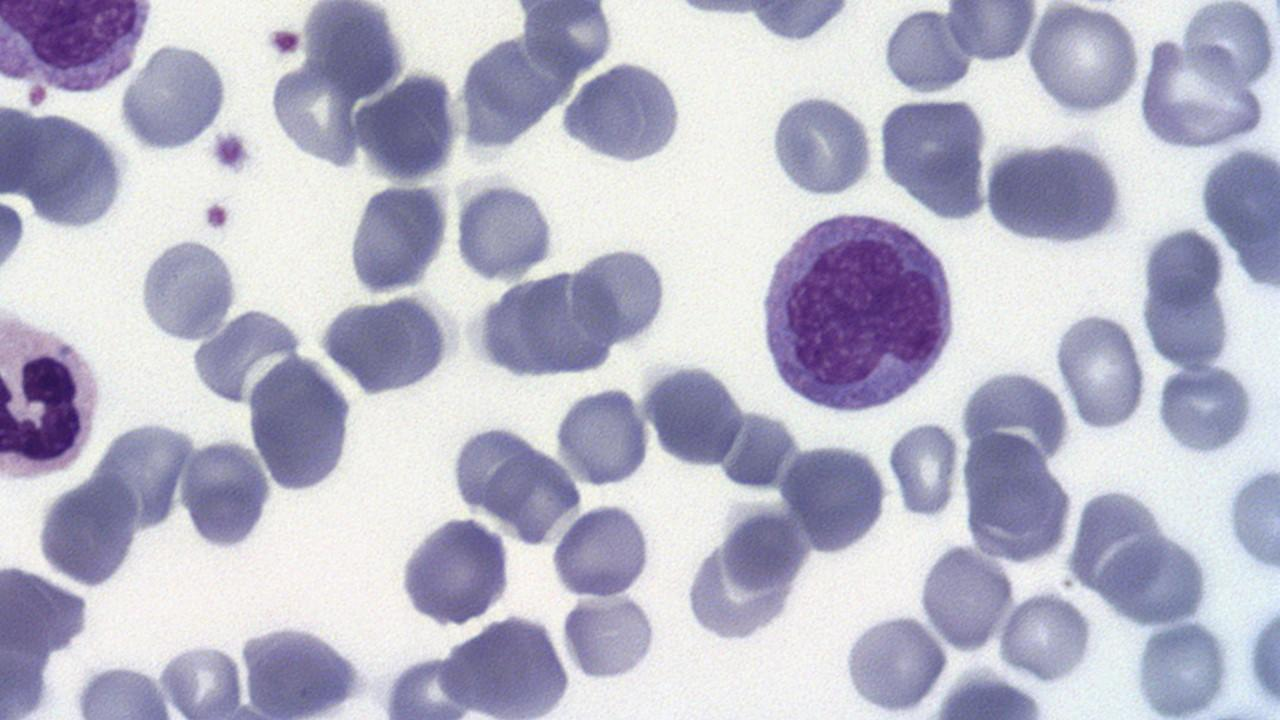Platelets: (1153, 362, 1261, 458), (0, 195, 27, 278), (207, 129, 255, 175), (263, 23, 305, 60), (200, 197, 234, 234)
RBC: (958, 428, 1075, 566), (1137, 37, 1269, 153), (876, 94, 994, 222), (1136, 230, 1236, 378), (439, 617, 578, 714), (1026, 2, 1142, 117), (778, 438, 890, 556), (640, 356, 750, 472), (356, 66, 460, 187), (1092, 526, 1212, 630), (838, 608, 952, 716), (1052, 307, 1148, 432), (451, 174, 556, 286), (179, 432, 274, 553), (566, 239, 672, 345), (916, 542, 1015, 654), (548, 500, 656, 600), (552, 384, 654, 488), (1130, 618, 1236, 716), (1152, 362, 1260, 458), (562, 587, 666, 682), (996, 586, 1095, 684), (1183, 1, 1277, 91), (880, 6, 973, 94), (888, 418, 962, 522), (156, 636, 244, 717), (71, 656, 175, 720), (944, 1, 1040, 67), (1226, 459, 1280, 576), (1244, 586, 1280, 714)
WBC: (229, 4, 979, 720), (670, 0, 1280, 720), (750, 203, 964, 423), (266, 4, 450, 176), (1, 92, 137, 279), (0, 298, 109, 484), (468, 261, 626, 388), (682, 502, 812, 648), (1135, 219, 1245, 389), (978, 132, 1132, 250), (313, 286, 466, 400), (245, 350, 359, 497), (0, 1, 158, 106), (960, 428, 1076, 570), (0, 560, 100, 714), (436, 610, 576, 716), (394, 509, 516, 629), (560, 58, 690, 168), (641, 346, 752, 474), (879, 96, 991, 219), (236, 618, 373, 716), (118, 38, 232, 155), (779, 436, 891, 555), (1199, 138, 1280, 301), (764, 88, 878, 202), (344, 178, 453, 297), (450, 169, 560, 286), (134, 232, 243, 345), (840, 608, 954, 716), (1096, 528, 1216, 628), (35, 476, 143, 587), (572, 242, 676, 348), (554, 383, 656, 490), (1131, 617, 1237, 714), (559, 588, 663, 682), (887, 3, 980, 93), (736, 1, 861, 45), (1244, 588, 1280, 714)
